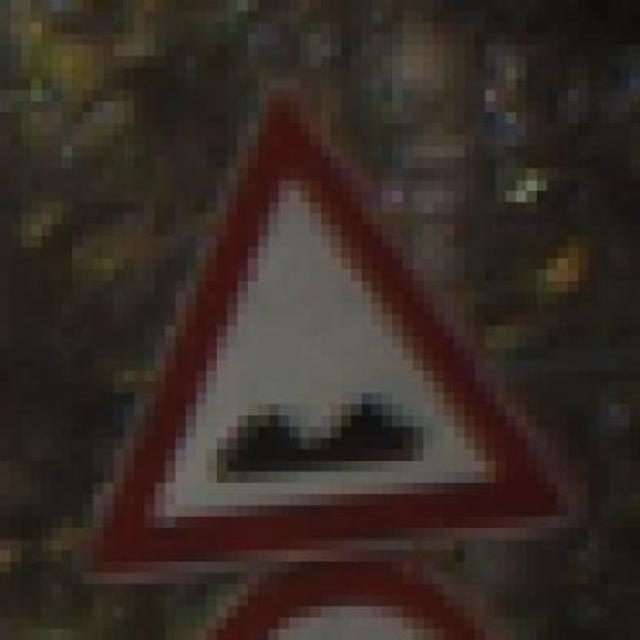Uneven Road: (82, 90, 578, 584)
